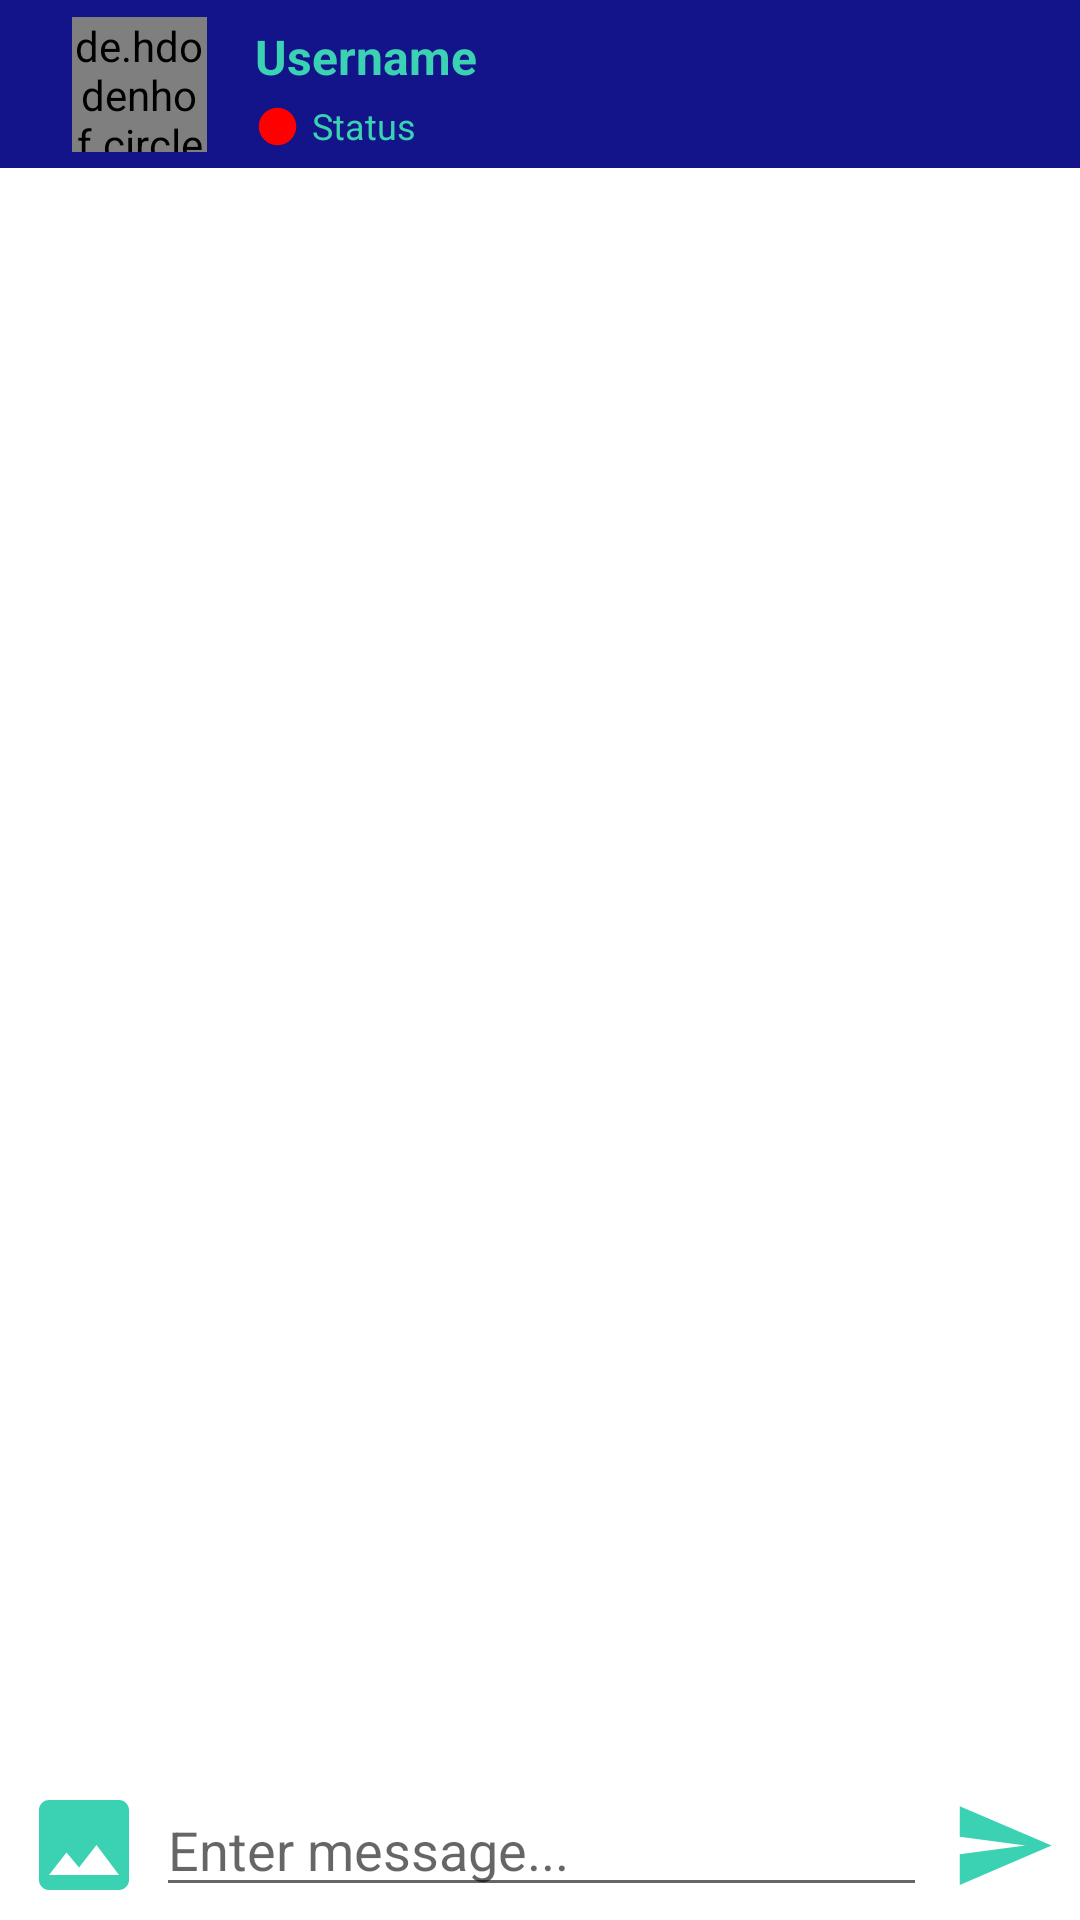

Screen size 1080px×1920px. Icon name, then its center in pixels as point (x, y):
send: point (1005, 1845)
